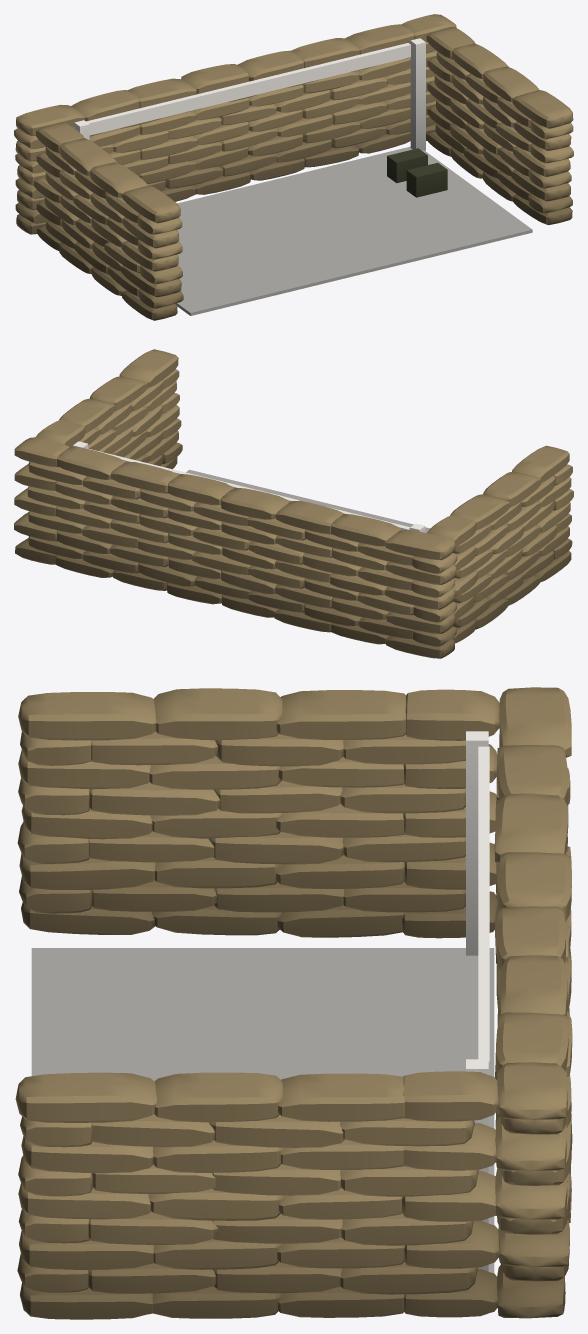
The model's file is fighting_position.glb.
The picture shows the model from 3 angles, top to bottom: view 1: azimuth 30°, elevation 25°; view 2: azimuth 150°, elevation 25°; view 3: azimuth 270°, elevation 25°; orthographic projection. The views are drawn at different scales.
Visible parts, largest first — view 1: fighting_position_LOD0; view 2: fighting_position_LOD0; view 3: fighting_position_LOD0.
Part boxes in pixels (x1,y1,x2,y2): fighting_position_LOD0: [14, 14, 573, 320]; fighting_position_LOD0: [14, 349, 573, 658]; fighting_position_LOD0: [15, 687, 572, 1319].
Size of what is drawn, in the model's own units: 4.43 by 1.12 by 2.47.
